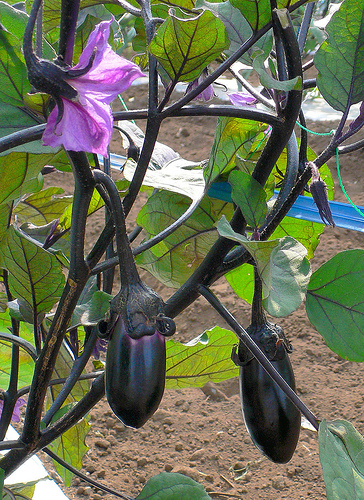eggplant: (94, 272, 178, 432), (231, 308, 308, 468)
